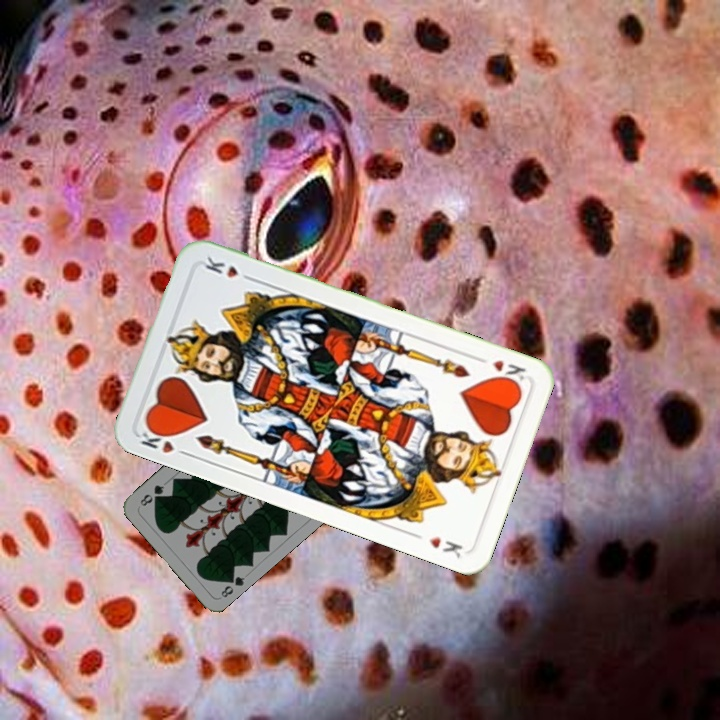G8: (217, 570, 248, 600)
HK: (136, 422, 193, 459), (488, 356, 530, 389)
